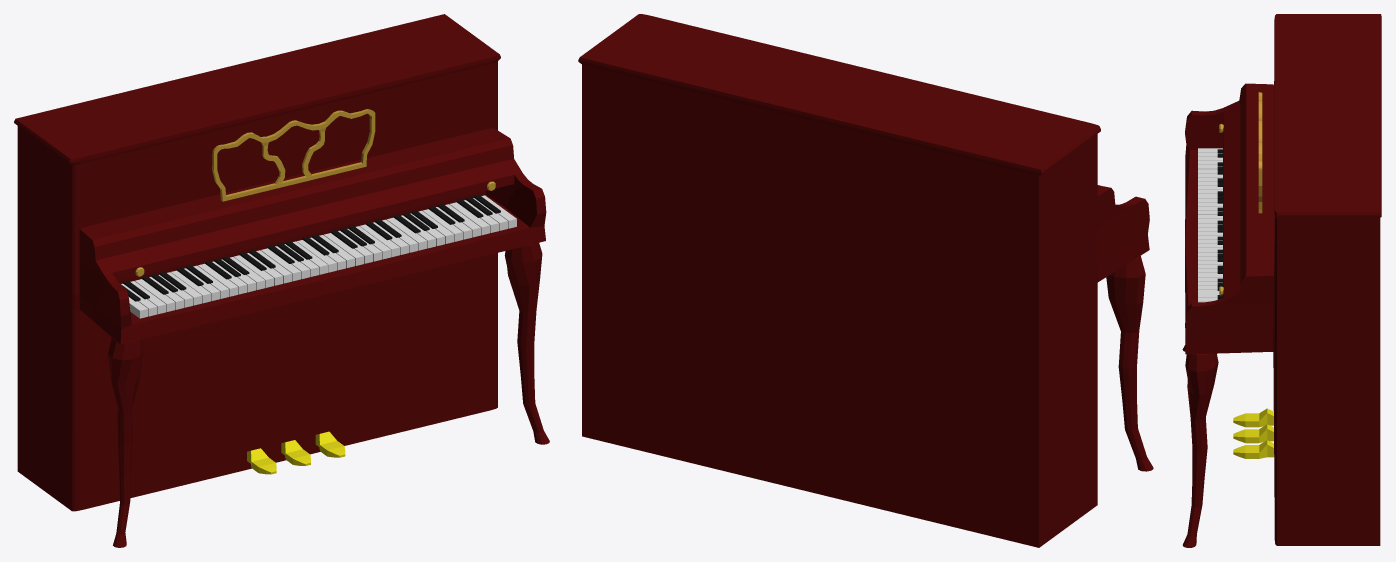
Rendered from Piano8.fbx.
3 renders of one model, left to right at view 1: azimuth 30°, elevation 25°; view 2: azimuth 150°, elevation 25°; view 3: azimuth 270°, elevation 25°, orthographic. The views are drawn at different scales.
Parts seen in each view (by area): view 1: Cube.022; view 2: Cube.022; view 3: Cube.022.
Part boxes in pixels (box(x1,y1,x2,y2)): Cube.022: box(14, 14, 549, 547); Cube.022: box(578, 14, 1153, 547); Cube.022: box(1182, 14, 1381, 547).
Size of the model in its own units: 158 by 122 by 65.97.
